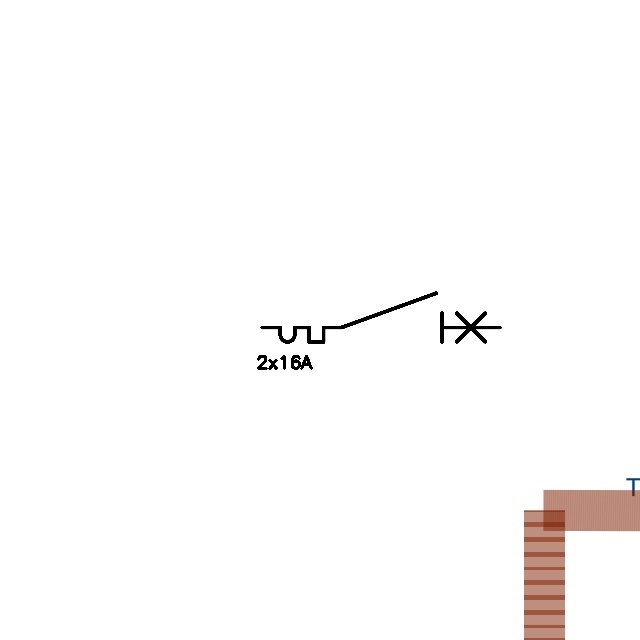interruptor_termomagnetico: (256, 287, 506, 348)
